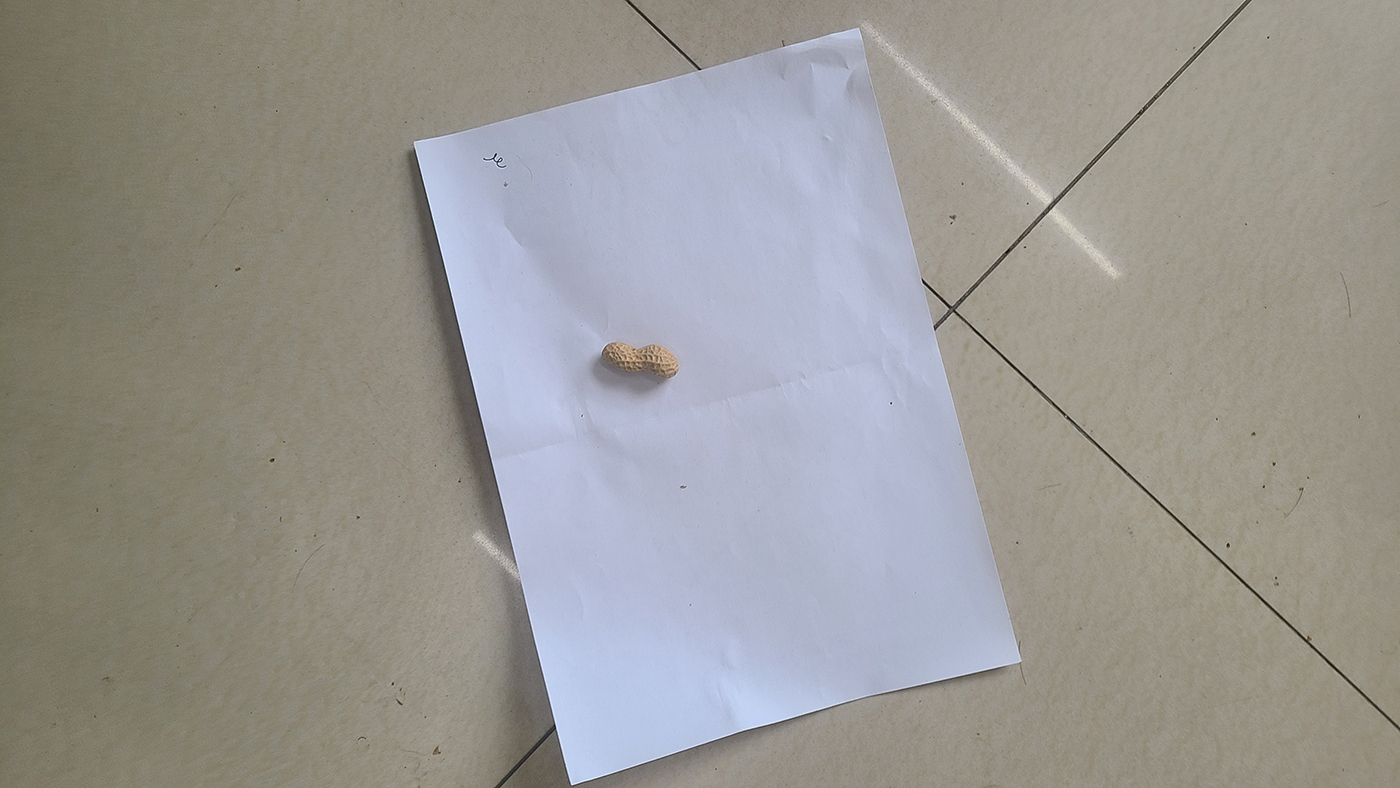h: (601, 342, 679, 379)
